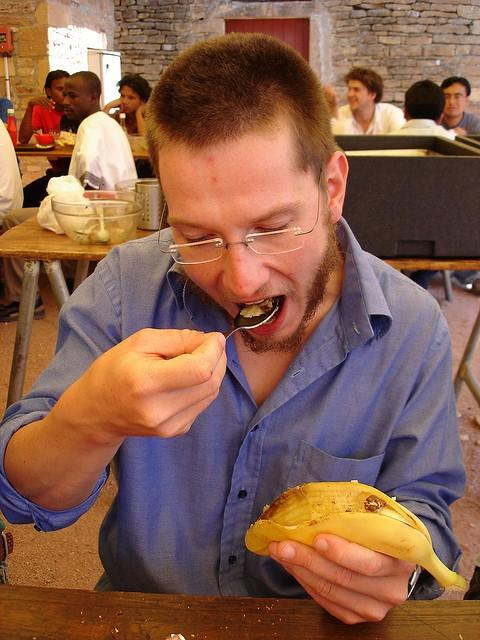banana: (245, 480, 467, 592), (241, 306, 266, 318)
